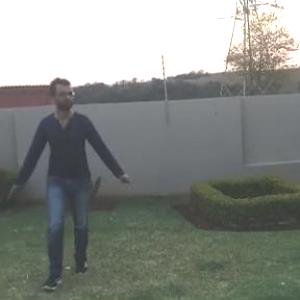land: (13, 69, 127, 290)
